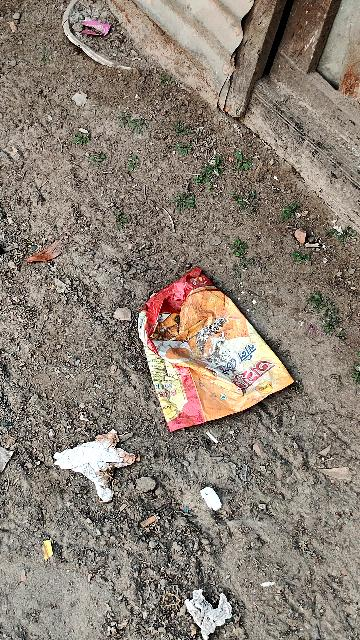packet: (123, 250, 311, 444)
